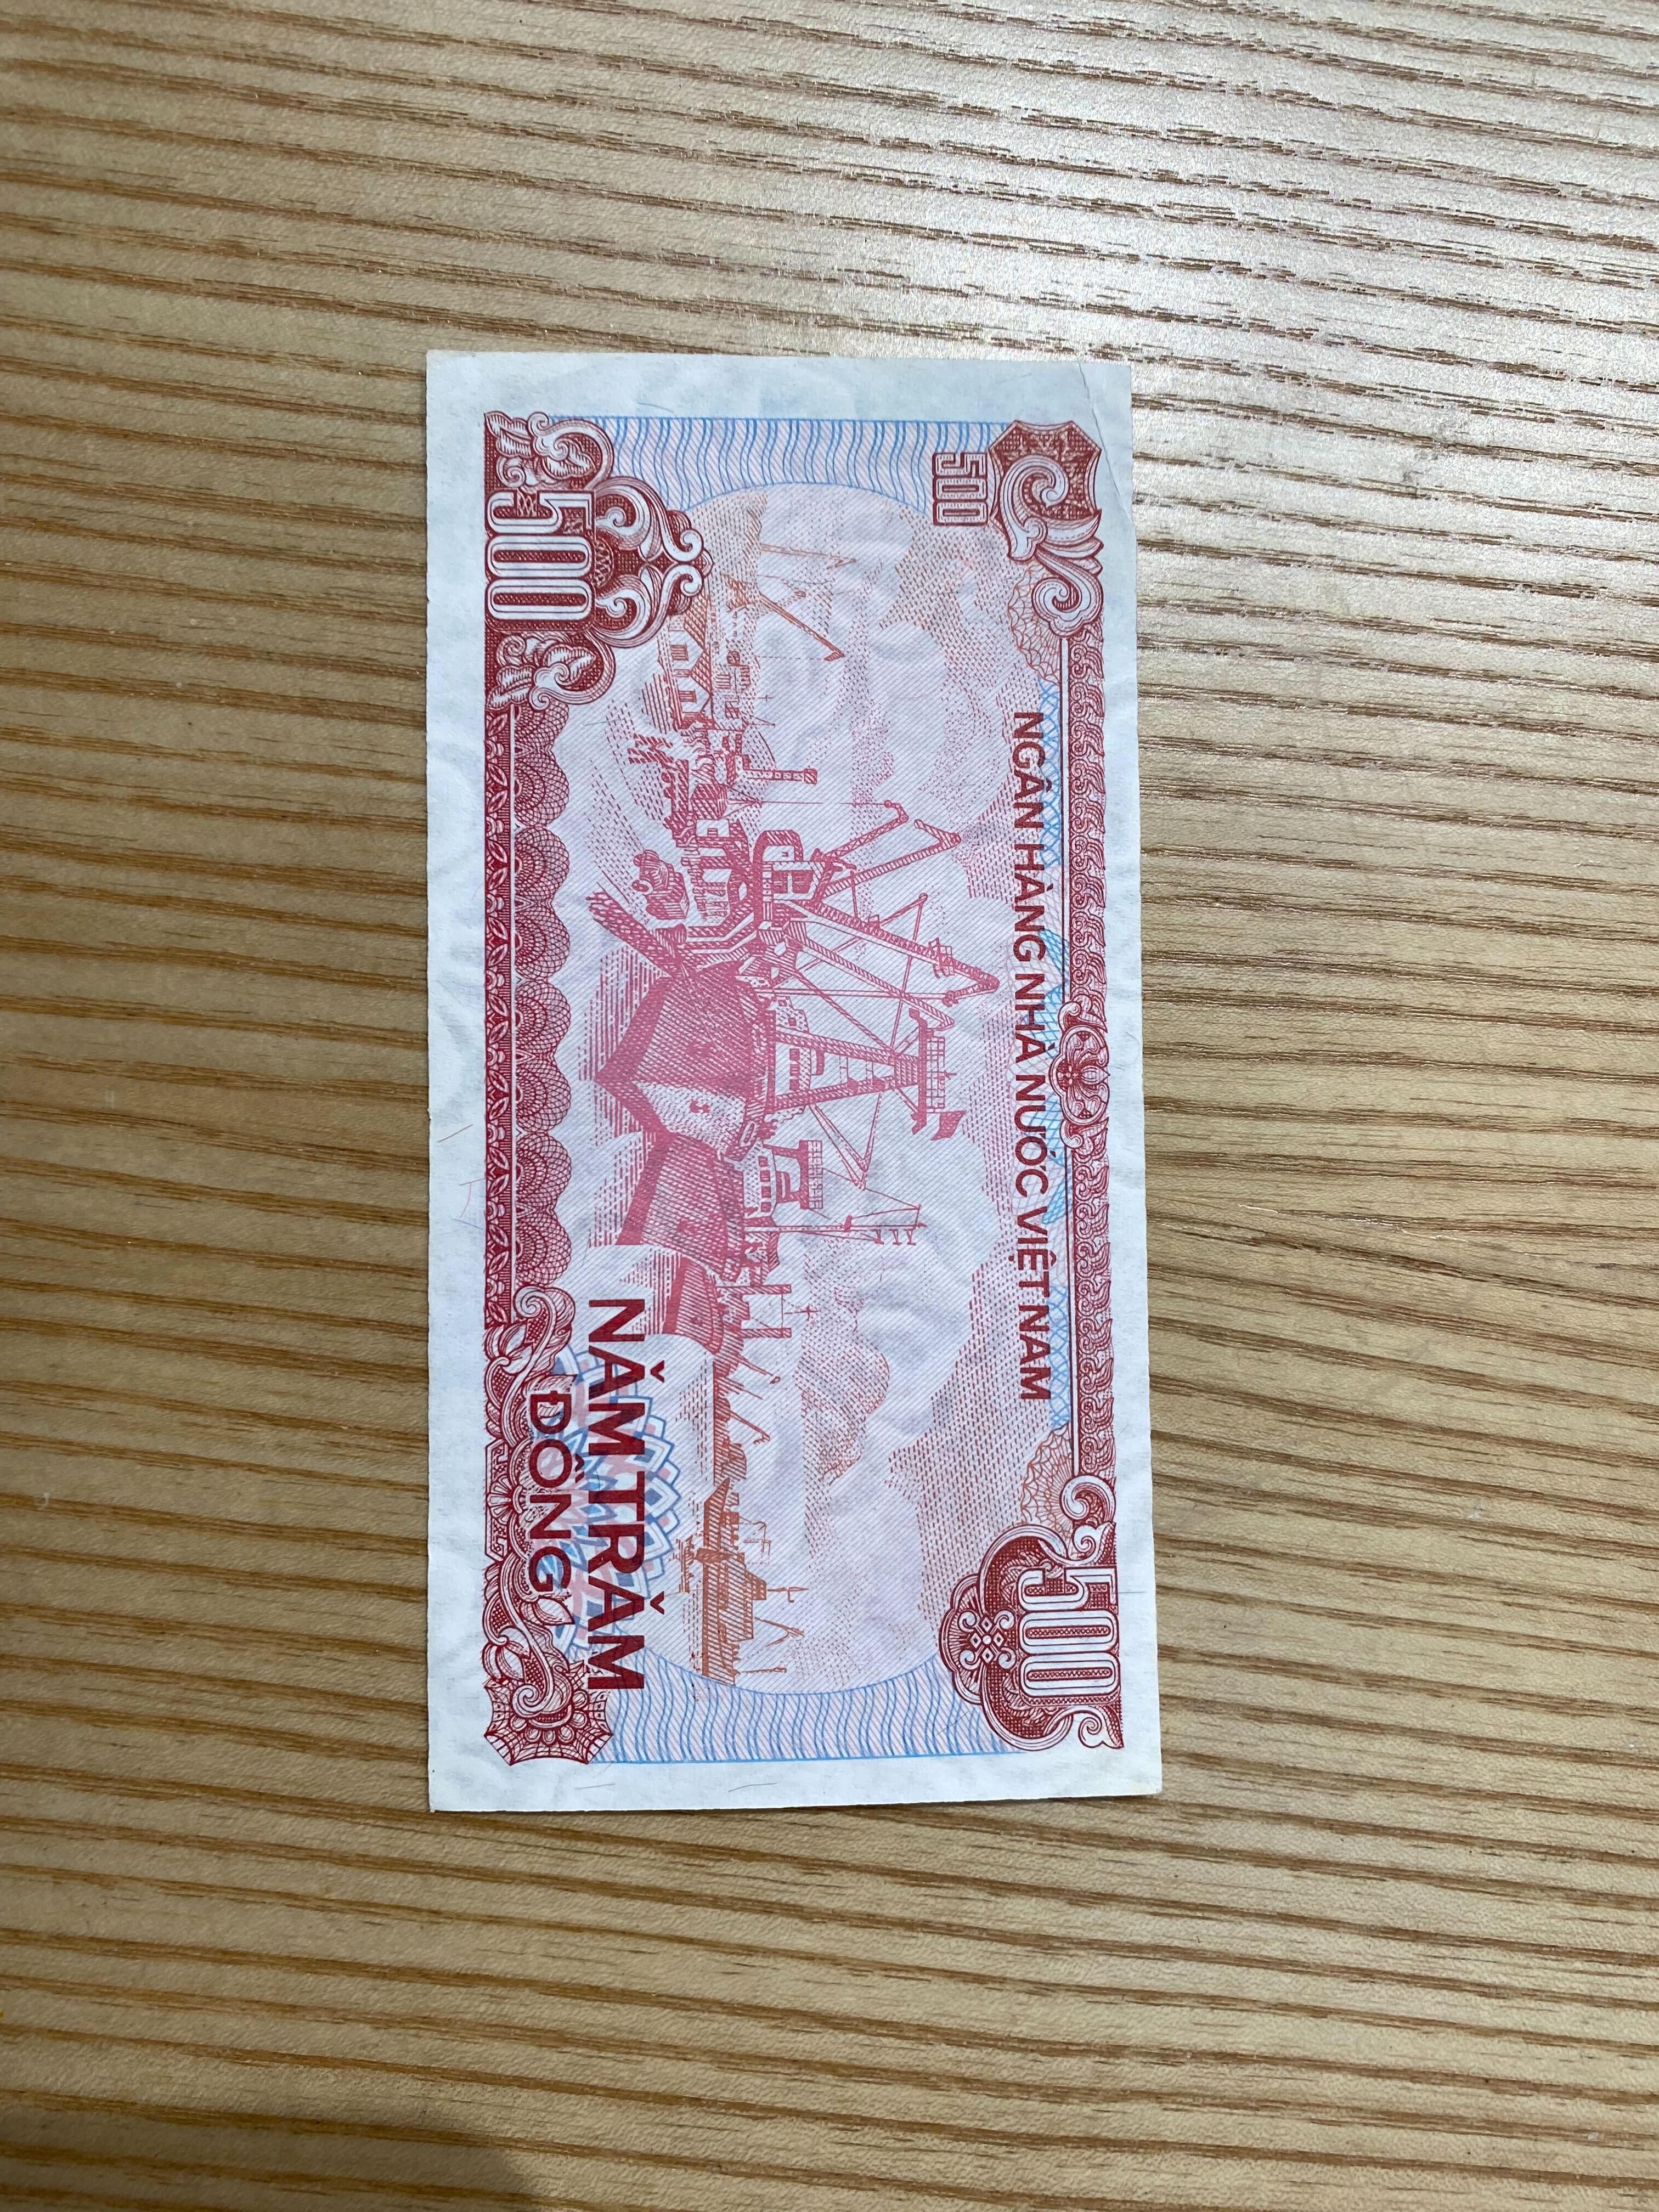500vnd: (416, 336, 1175, 1815)
